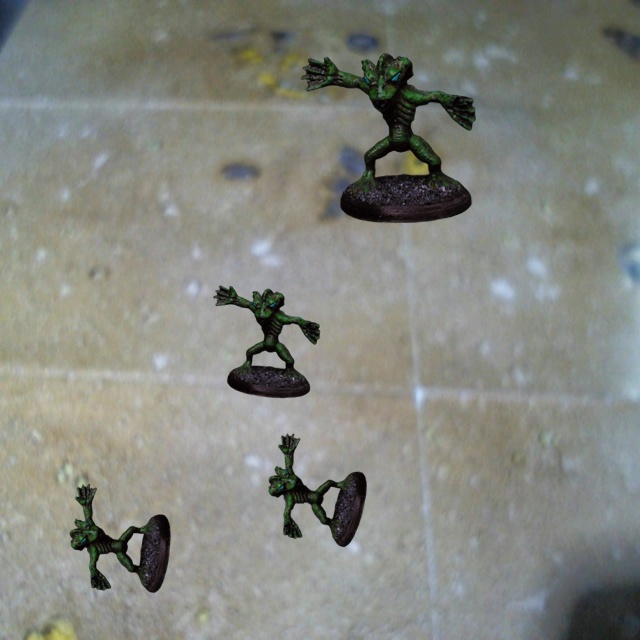pieza_juego: (301, 53, 475, 222), (213, 285, 319, 397), (268, 433, 366, 546), (70, 484, 170, 592)
